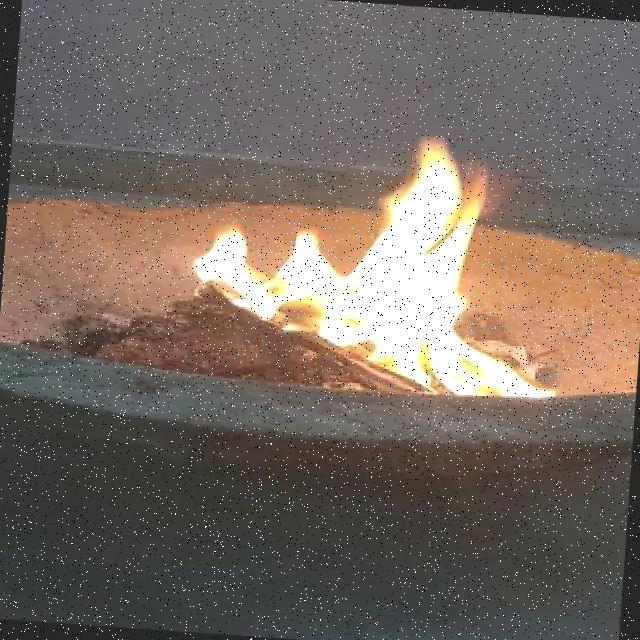Fire: (187, 118, 581, 412)
